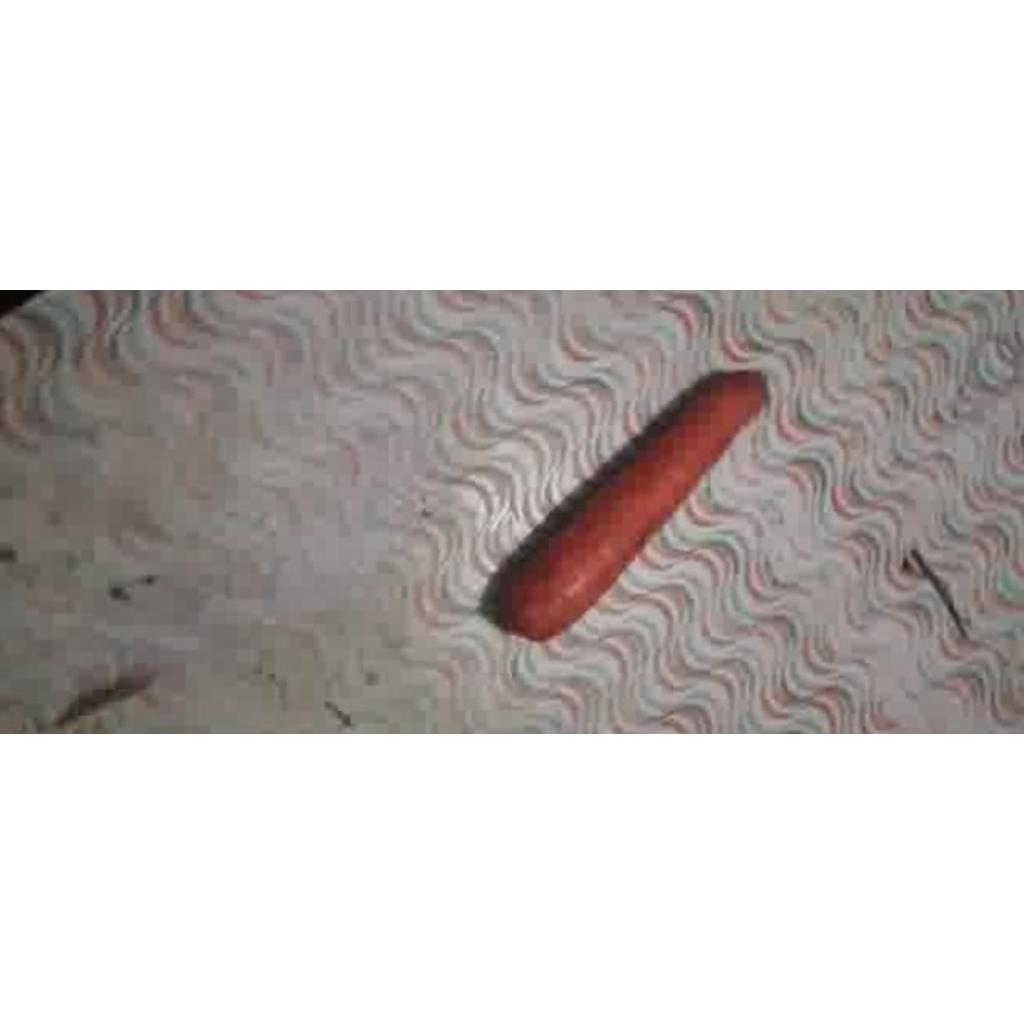carrot: (480, 372, 766, 639)
